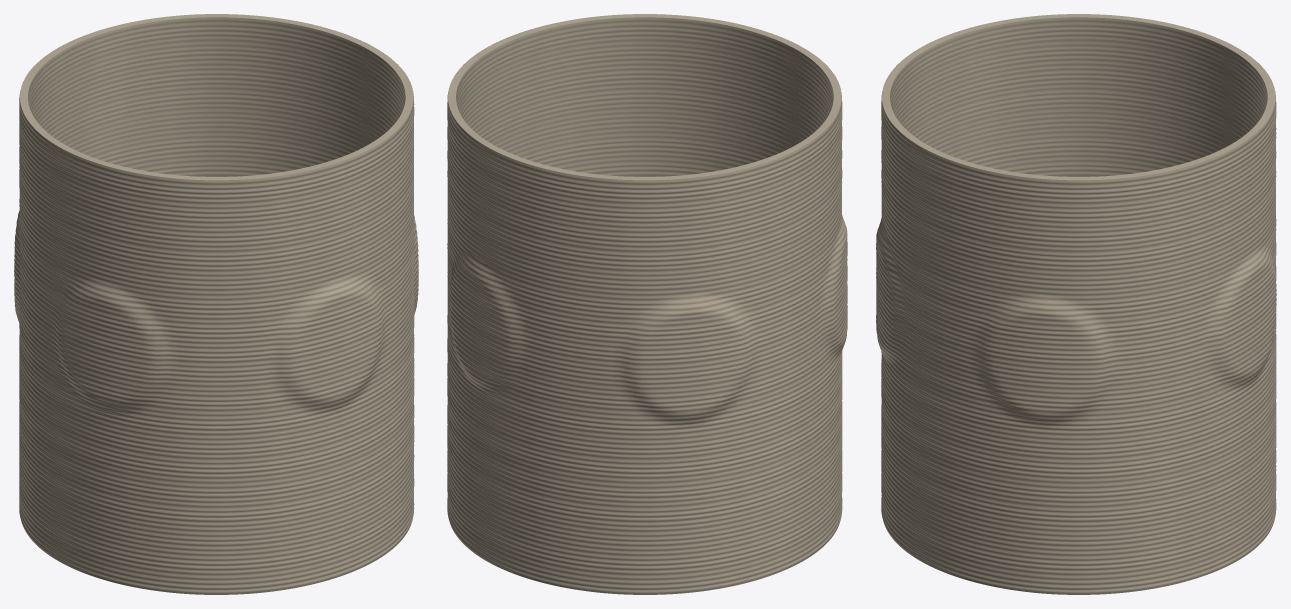
File: cup-stone.glb
3 renders of one model, left to right at view 1: azimuth 30°, elevation 25°; view 2: azimuth 150°, elevation 25°; view 3: azimuth 270°, elevation 25°, orthographic.
Parts seen in each view (by area): view 1: outer-wall, inner-wall, rim-cap; view 2: outer-wall, inner-wall, rim-cap; view 3: outer-wall, inner-wall, rim-cap.
Boxes of the visible parts, x1,y1,x2,y2 form: outer-wall: (14,40,418,594); inner-wall: (28,17,405,180); rim-cap: (20,14,413,180); outer-wall: (447,41,847,594); inner-wall: (456,17,833,180); rim-cap: (448,14,841,180); outer-wall: (876,42,1276,594); inner-wall: (890,17,1267,180); rim-cap: (882,14,1275,180).
Size of the model in its own units: 0.0757 by 0.086 by 0.0754.
2 materials, 2 textured.
